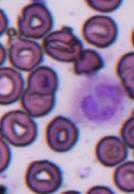N: (70, 73, 126, 127)
